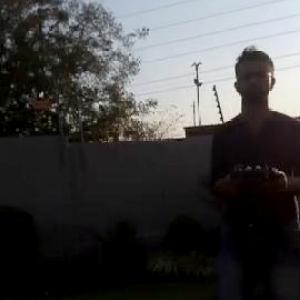follow: (209, 40, 300, 299)
